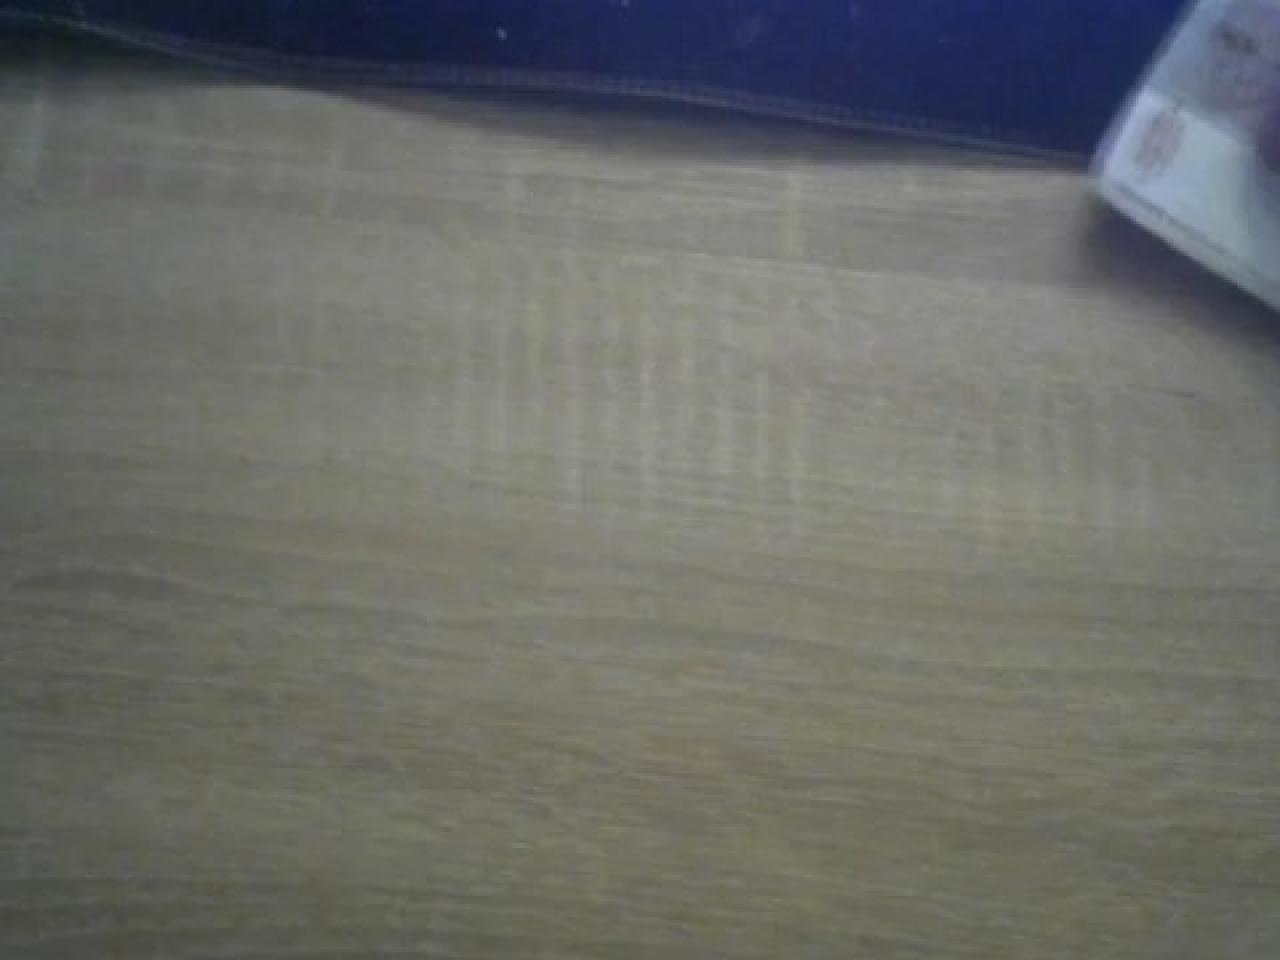10leva: (1085, 0, 1280, 320)
